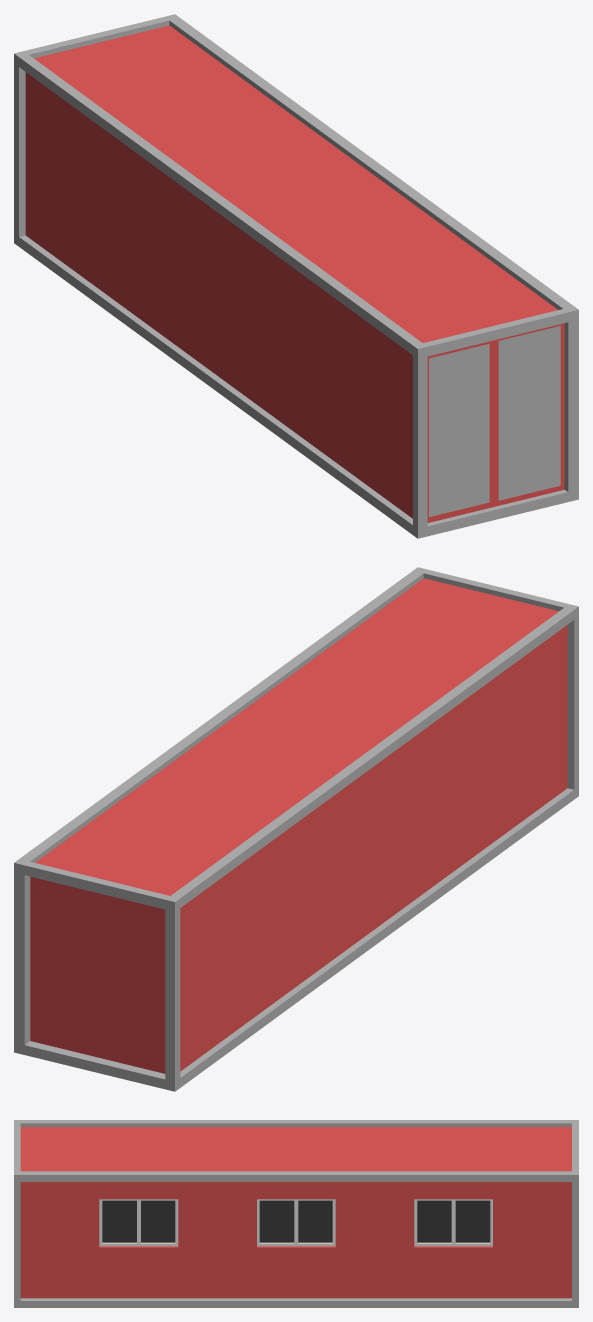
The model's file is container.gltf.
3 views of the same model, one above another, from view 1: azimuth 30°, elevation 25°; view 2: azimuth 150°, elevation 25°; view 3: azimuth 270°, elevation 25° (orthographic). The views are drawn at different scales.
Parts seen in each view (by area): view 1: container; view 2: container; view 3: container.
Boxes of the visible parts, box(x1,y1,x2,y2) form: container: box(14, 14, 578, 538); container: box(14, 567, 578, 1091); container: box(14, 1120, 578, 1307).
Bounding box in the file's own units: 2.4 × 2.7 × 10.42.
